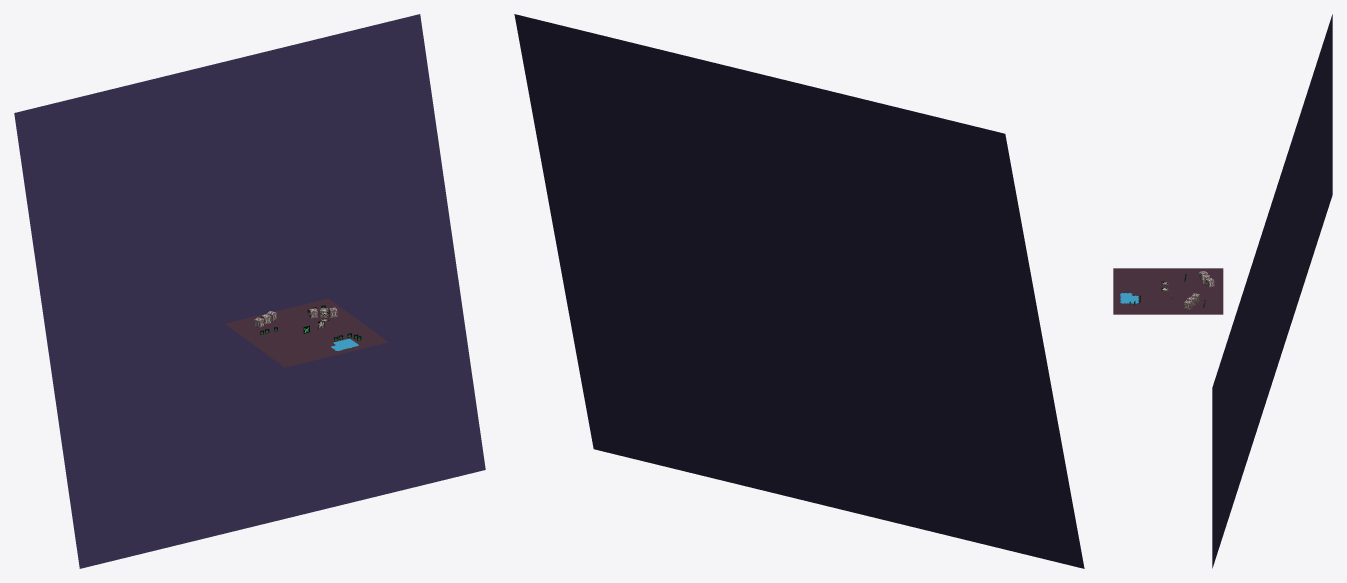
File: map.gltf
The picture shows the model from 3 angles, left to right: view 1: azimuth 30°, elevation 25°; view 2: azimuth 150°, elevation 25°; view 3: azimuth 270°, elevation 25°; orthographic projection. The views are drawn at different scales.
Visible parts, largest first — view 1: Plane.006, Plane; view 2: Plane.006; view 3: Plane.006, Plane.
Boxes of the visible parts, x1=… form: Plane.006: x1=14, y1=14, x2=485, y2=568; Plane: x1=225, y1=298, x2=388, y2=367; Plane.006: x1=514, y1=14, x2=1084, y2=568; Plane.006: x1=1212, y1=14, x2=1332, y2=568; Plane: x1=1113, y1=268, x2=1223, y2=314.
Bounding box in the file's own units: 128 × 123 × 65.43.
Materials: 4 (4 with a texture image).
